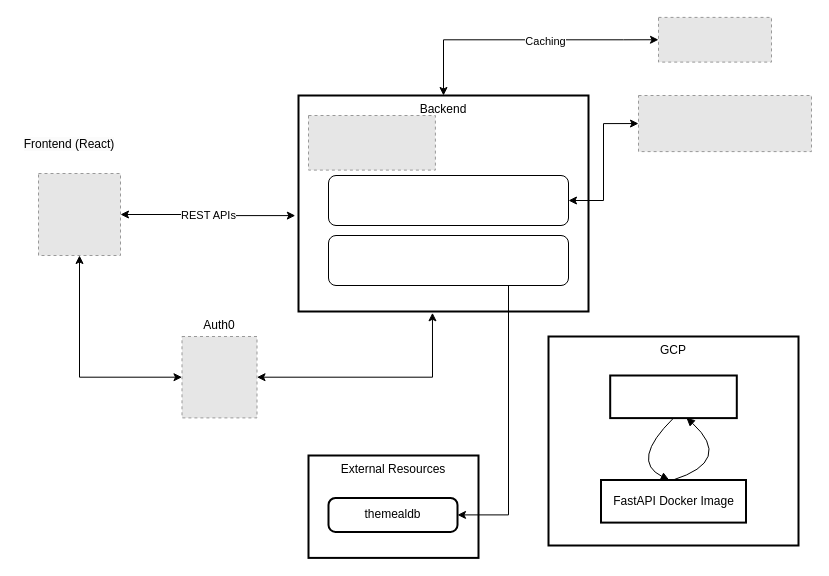
Some shapes in this 829 by 576 pixel diagram are drawn without their labels. Grey dashed boxes stand in for pictures. The box of each missing label's shape, as (x1, y1, x2, y2) in pixels:
GCP Cloud Run: (609, 374, 737, 419)
GET /api/v1/recipe_ideas/mealdb (query and aggregate recipe ideas result): (328, 234, 568, 286)
POST /api/v1/predict POST /api/v1/predict/upload: (328, 174, 568, 226)
